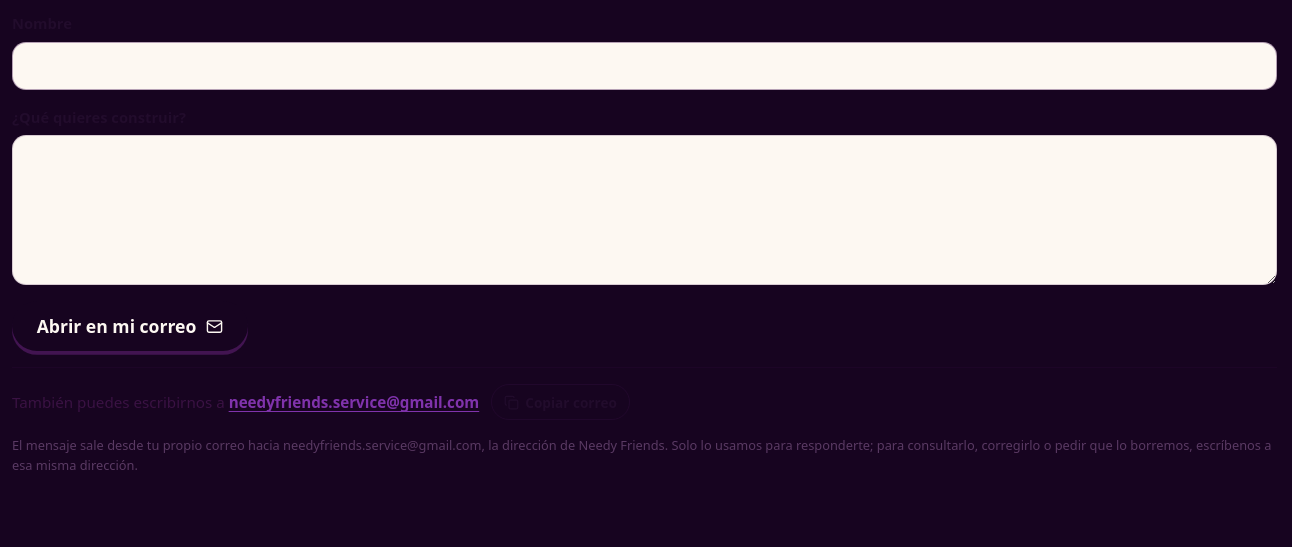
Test: contact form › opens the visitor mail app with the subject and signed message filled in
In the field labelled "Nombre": (644, 66) [12,42,1277,90], type "Ana Mora"
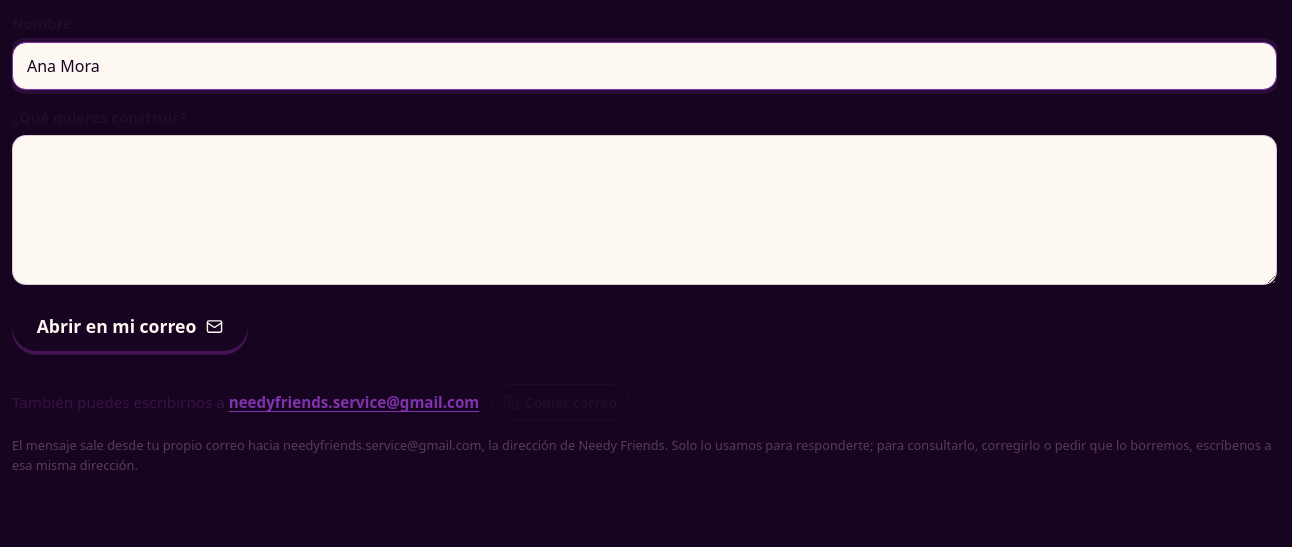
In the text box labelled "¿Qué quieres construir?": (644, 210) [12,136,1277,286], type "Queremos un juego para nuestra marca."
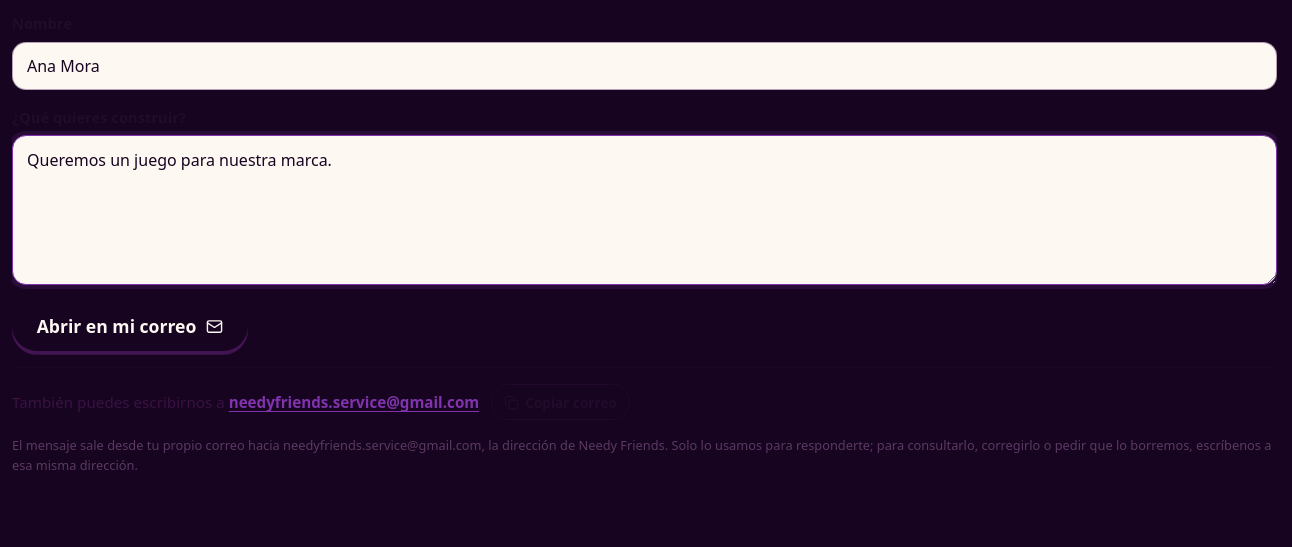
Click the button "Abrir en mi correo": (130, 326) [12,302,248,352]
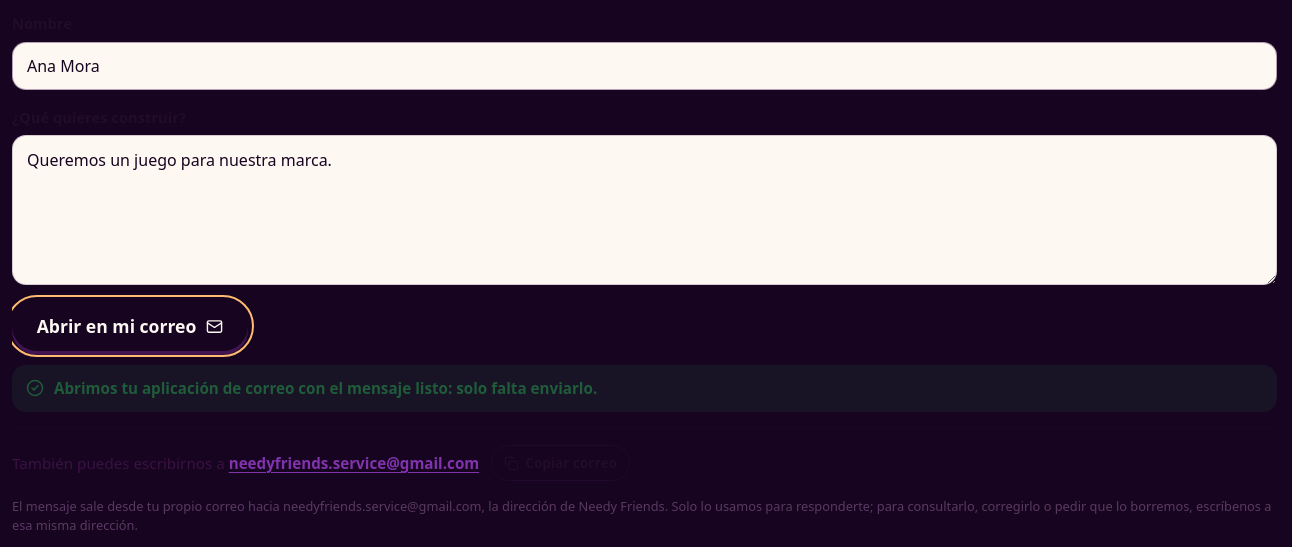
Check: the link "needyfriends.service@gmail.com" is shown, box [229,453,479,473]
Check: the message shows "Abrimos tu aplicación de correo", box [54,378,597,398]
